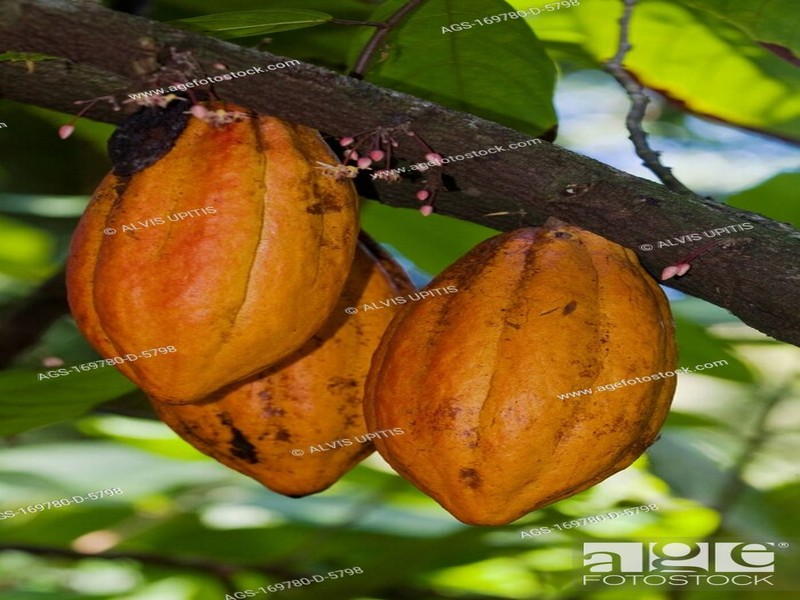Cacaopod: (364, 219, 682, 528), (64, 104, 364, 406)
